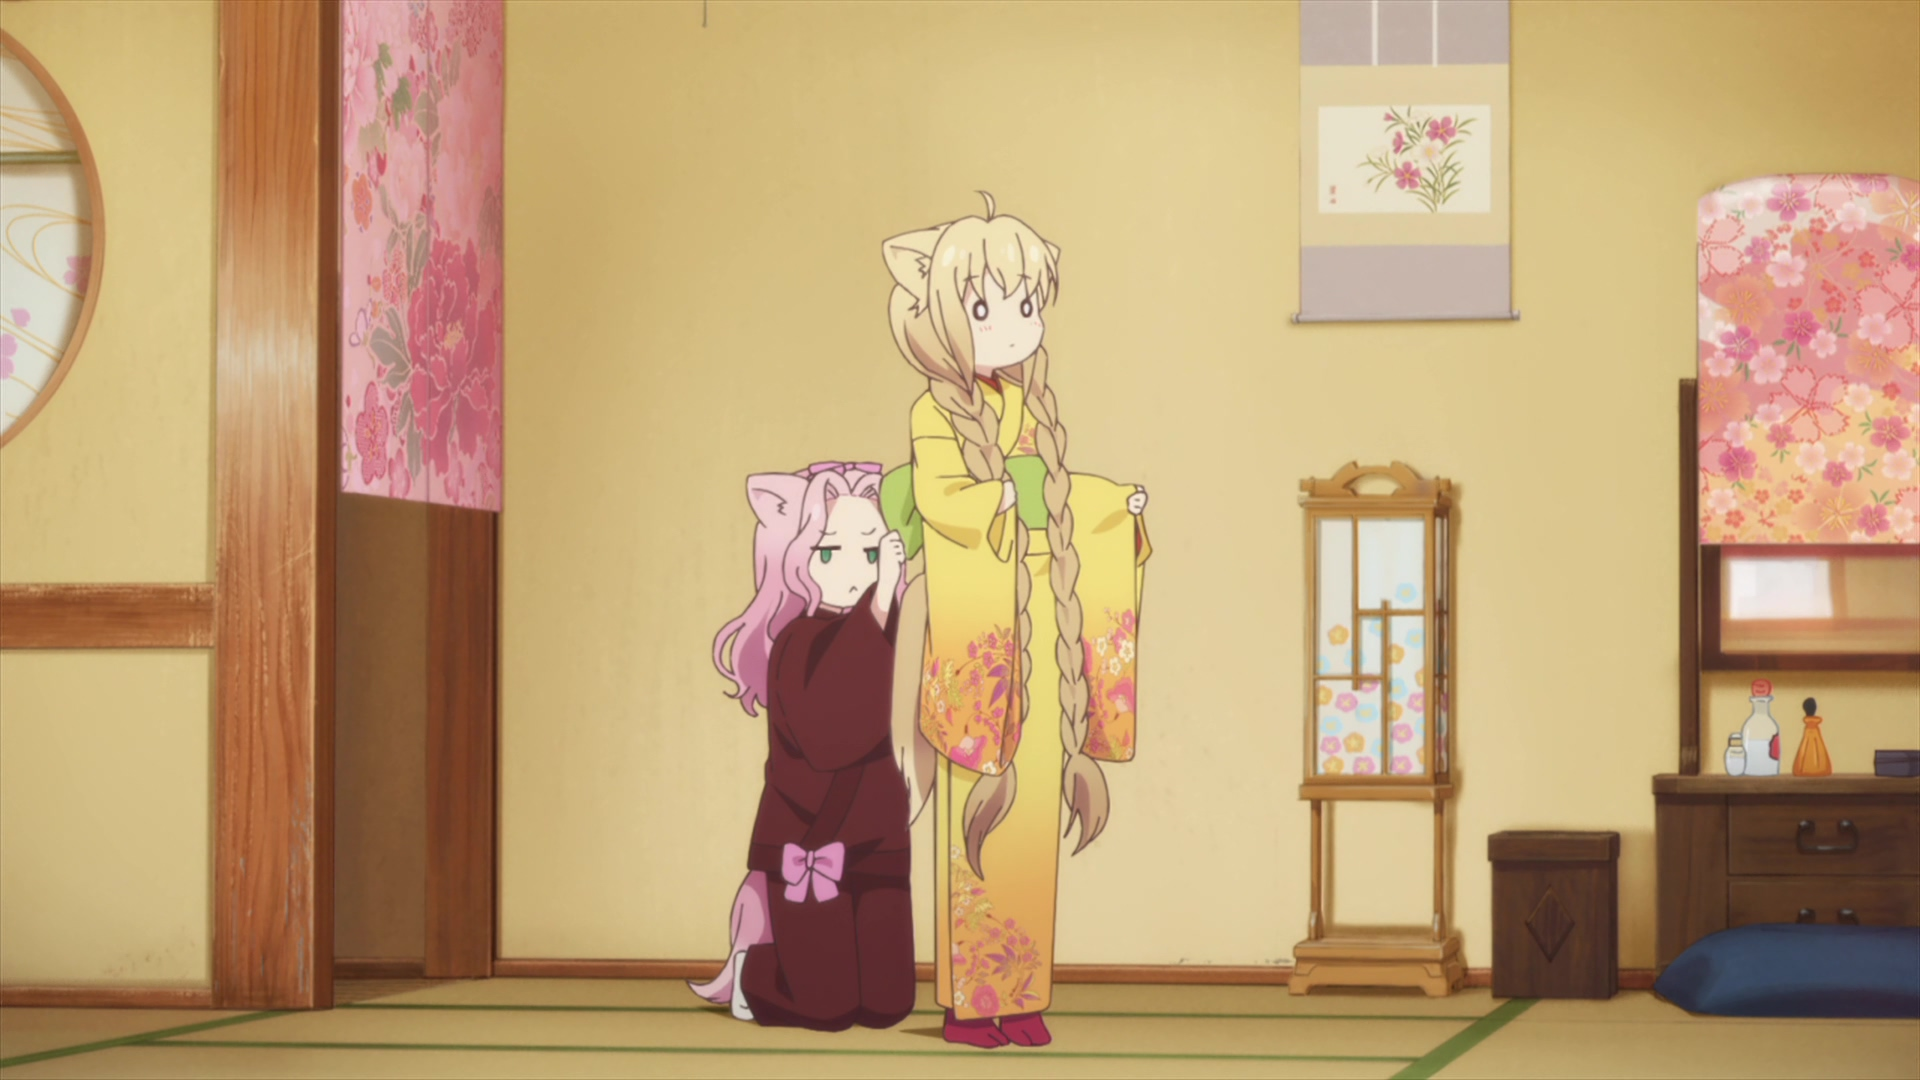柚: (885, 190, 1154, 1046)
莲: (688, 463, 915, 1031)
